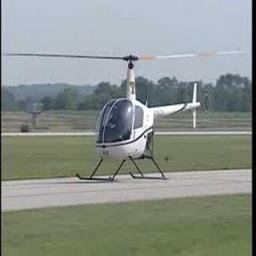helicopter: (43, 53, 236, 183)
